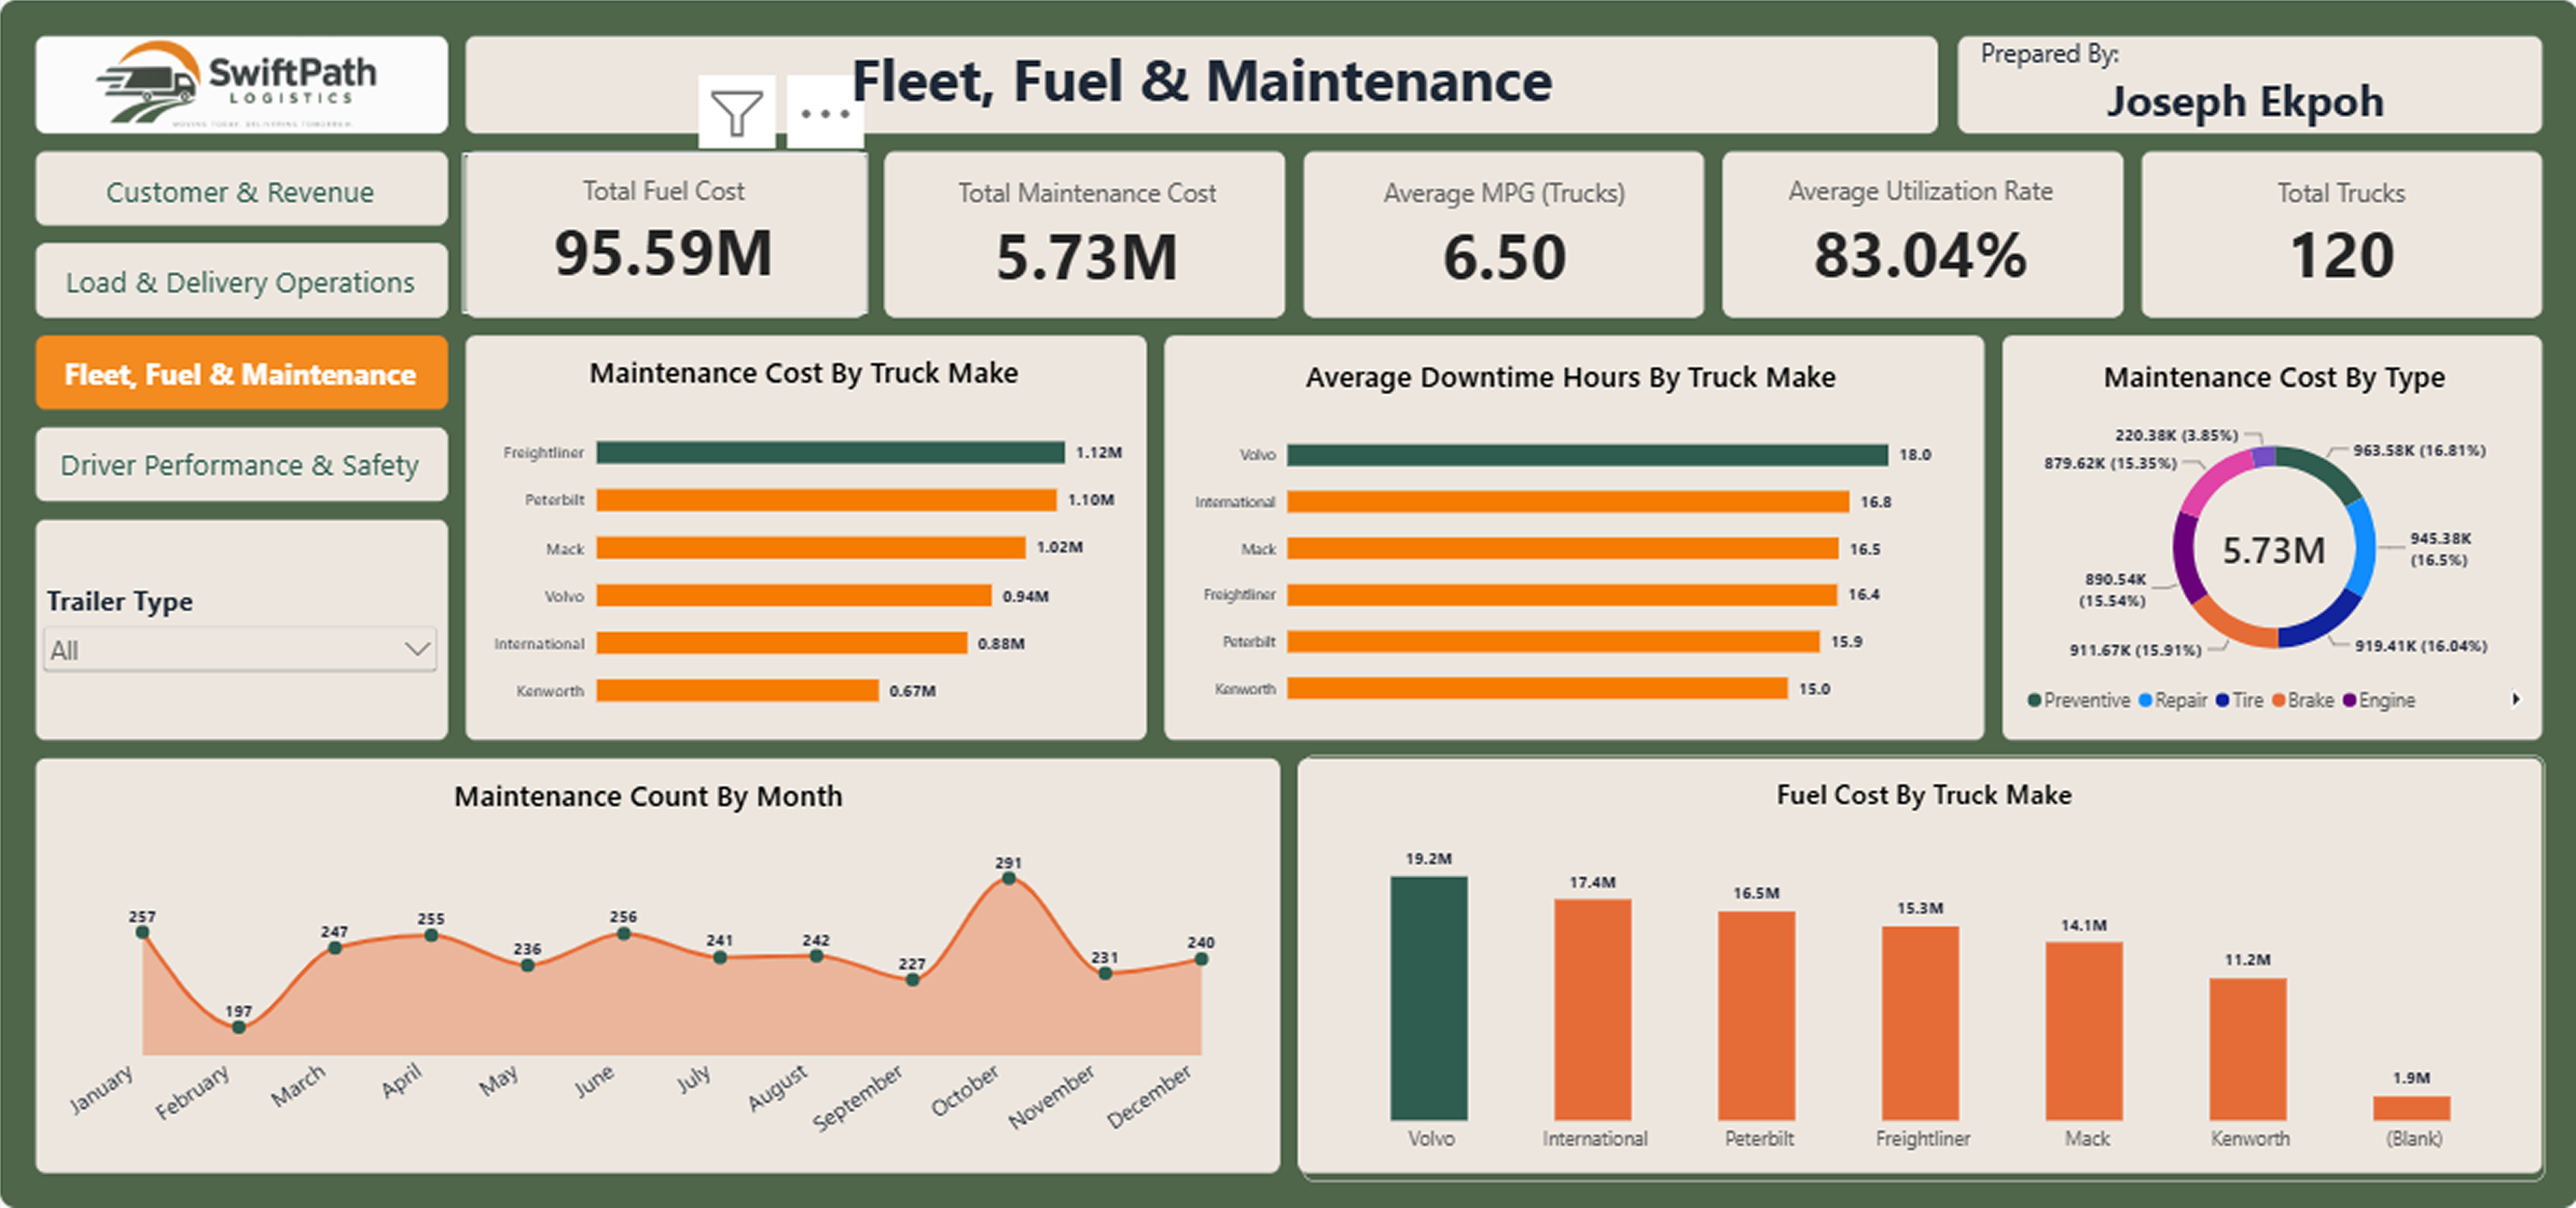

This screenshot's page, from the dashboard's own definition file:
{"tool":"powerbi","page":{"name":"Fleet, Fuel & Maintenance","canvas":[1920,1080],"ordinal":3},"visuals":[{"type":"clusteredBarChart","title":"Maintenance Cost By Truck Make","fields":{"Category":["trucks.make"],"Y":["maintenance_records.Total Maintenance Cost"]},"box":[345.2,331.6,508.8,306.6],"z":0},{"type":"clusteredBarChart","title":"Average Downtime Hours By Truck Make","fields":{"Category":["trucks.make"],"Y":["truck_utilization_metrics.Average Truck Downtime Hours"]},"box":[867.6,333.9,606.4,302.1],"z":1000},{"type":"columnChart","title":"Fuel Cost By Truck Make","fields":{"Category":["trucks.make"],"Y":["fuel_purchases.Total Fuel Cost"]},"box":[969.8,647.3,924.4,318],"z":2000},{"type":"cardVisual","fields":{"Data":["fuel_purchases.Total Fuel Cost"]},"box":[345.2,197.6,300,120.4],"z":3000},{"type":"cardVisual","fields":{"Data":["maintenance_records.Total Maintenance Cost"]},"box":[658.7,197.6,300,125],"z":4000},{"type":"cardVisual","fields":{"Data":["truck_utilization_metrics.Average MPG (Trucks)"]},"box":[970,197,300,125],"z":5000},{"type":"cardVisual","fields":{"Data":["truck_utilization_metrics.Average Utilization Rate"]},"box":[1281,197.6,299,123],"z":6000},{"type":"cardVisual","fields":{"Data":["truck_utilization_metrics.Total Trucks"]},"box":[1594,194,299.8,129],"z":7000},{"type":"donutChart","title":"Maintenance Cost By Type","fields":{"Category":["maintenance_records.maintenance_type"],"Y":["maintenance_records.Total Maintenance Cost"]},"box":[1492.2,333.9,402,302.1],"z":8000},{"type":"slicer","title":"Customer Type","fields":{"Values":["trailers.trailer_type"]},"box":[27.3,517.9,304.4,77.2],"z":9000},{"type":"actionButton","box":[27,197.6,305,57],"z":10000},{"type":"actionButton","box":[27.3,265.7,305,57],"z":11000},{"type":"actionButton","box":[27.3,333.9,305,57],"z":12000},{"type":"actionButton","box":[27.3,402,304.4,56.8],"z":13000},{"type":"stackedAreaChart","title":"Maintenance Count By Month","fields":{"Category":["maintenance_records.maintenance_date.Variation.Date Hierarchy.Month"],"Y":["CountNonNull(maintenance_records.maintenance_type)"]},"box":[27.3,647.3,913.1,318],"z":14000},{"type":"textbox","box":[345,114,1101,65],"z":15000},{"type":"textbox","box":[1455,111,436,86],"z":16000}]}

Visuals, with their boxes on the page's 1920x1080 design canvas (x1, y1, x2, y2). These are canvas units, not pixel positions in the 2576x1208 screenshot, which may show the page scaled, cropped or inside an application window:
"Maintenance Cost By Truck Make" clusteredBarChart: bbox=(345, 332, 854, 638)
"Average Downtime Hours By Truck Make" clusteredBarChart: bbox=(868, 334, 1474, 636)
"Fuel Cost By Truck Make" columnChart: bbox=(970, 647, 1894, 965)
cardVisual - fuel_purchases.Total Fuel Cost: bbox=(345, 198, 645, 318)
cardVisual - maintenance_records.Total Maintenance Cost: bbox=(659, 198, 959, 323)
cardVisual - truck_utilization_metrics.Average MPG (Trucks): bbox=(970, 197, 1270, 322)
cardVisual - truck_utilization_metrics.Average Utilization Rate: bbox=(1281, 198, 1580, 321)
cardVisual - truck_utilization_metrics.Total Trucks: bbox=(1594, 194, 1894, 323)
"Maintenance Cost By Type" donutChart: bbox=(1492, 334, 1894, 636)
"Customer Type" slicer: bbox=(27, 518, 332, 595)
actionButton: bbox=(27, 198, 332, 255)
actionButton: bbox=(27, 266, 332, 323)
actionButton: bbox=(27, 334, 332, 391)
actionButton: bbox=(27, 402, 332, 459)
"Maintenance Count By Month" stackedAreaChart: bbox=(27, 647, 940, 965)
textbox: bbox=(345, 114, 1446, 179)
textbox: bbox=(1455, 111, 1891, 197)
